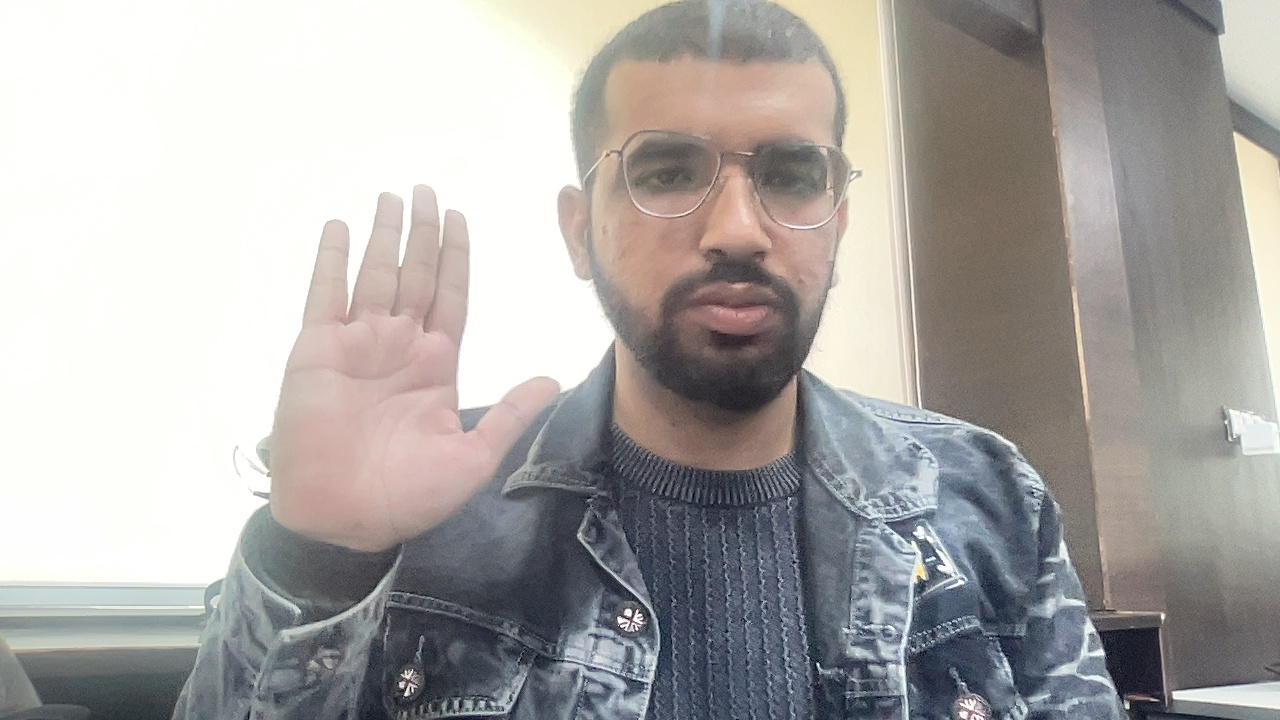Hello: (258, 154, 566, 561)
